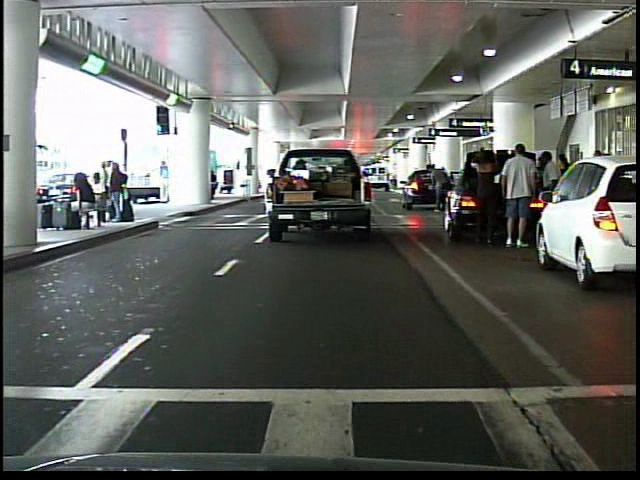person: (498, 140, 537, 250), (466, 141, 503, 253), (535, 144, 563, 252), (425, 158, 451, 216), (157, 159, 173, 204)
